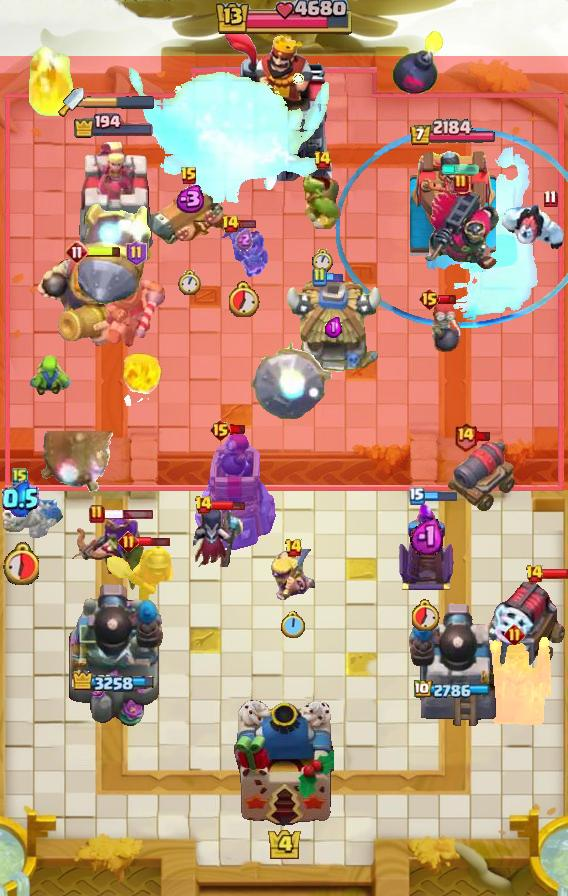arrows: (271, 549, 318, 602)
baby-dragon: (391, 28, 445, 96)
bandit: (106, 539, 176, 605)
bar: (73, 140, 155, 256)
barbarian-hut: (68, 510, 146, 596)
battle-healer: (149, 176, 229, 248)
bomber-evolution: (216, 223, 271, 279)
clock: (213, 0, 355, 38)
electro-spirit: (1, 480, 38, 517), (409, 516, 443, 555), (172, 185, 206, 213), (235, 228, 253, 252), (325, 316, 343, 338)
elixir: (1, 542, 38, 585), (228, 281, 259, 317), (412, 599, 440, 631), (282, 612, 307, 641), (178, 270, 201, 296), (311, 249, 332, 273)
emote: (102, 509, 154, 520), (86, 245, 122, 259), (422, 489, 458, 502), (210, 499, 246, 512), (137, 536, 172, 549), (540, 568, 567, 580), (324, 273, 343, 284), (438, 294, 457, 305), (229, 425, 247, 436), (239, 219, 258, 229), (476, 430, 493, 441)
flying-machine: (300, 173, 344, 229)
giant-skeleton: (36, 253, 144, 349)
golem: (478, 577, 568, 669)
ice-golem: (429, 297, 463, 353)
ice-spirit: (441, 164, 481, 176)
ice-spirit-evolution-symbol: (396, 500, 456, 592)
inferno-tower: (421, 188, 501, 272)
king-tower: (223, 31, 345, 181), (234, 700, 334, 826)
king-tower-bar: (84, 95, 156, 109)
mega-knight: (129, 55, 351, 229)
mini-pekka: (0, 480, 66, 544)
pad_0: (334, 128, 568, 330)
prince: (282, 281, 384, 377)
queen-tower: (410, 144, 496, 255)
rage: (498, 201, 568, 253)
ram-rider: (102, 270, 170, 350)
rascal-boy: (190, 503, 246, 573)
royal-giant-evolution: (447, 439, 517, 513)
selected: (409, 119, 497, 147), (73, 113, 155, 139), (71, 670, 156, 695), (414, 680, 492, 700)
skeleton-king-bar: (477, 637, 551, 725)
text: (454, 420, 479, 451), (65, 240, 89, 264), (418, 287, 441, 311), (209, 418, 232, 442), (126, 240, 147, 266), (117, 532, 138, 553), (504, 623, 525, 644), (194, 495, 214, 515), (312, 150, 331, 170), (221, 214, 240, 234), (285, 538, 304, 558), (525, 564, 544, 584), (180, 166, 198, 186), (453, 173, 469, 193), (311, 267, 327, 287), (12, 467, 28, 487), (89, 504, 105, 524), (409, 487, 425, 505), (543, 189, 557, 207)
tower-bar: (63, 579, 165, 731), (408, 599, 498, 731)
valkyrie: (23, 45, 77, 121), (118, 346, 166, 406)
x-bow: (74, 202, 154, 306), (251, 341, 334, 421), (37, 431, 119, 493)
zap: (28, 355, 72, 397)
zappy: (193, 430, 279, 554)
